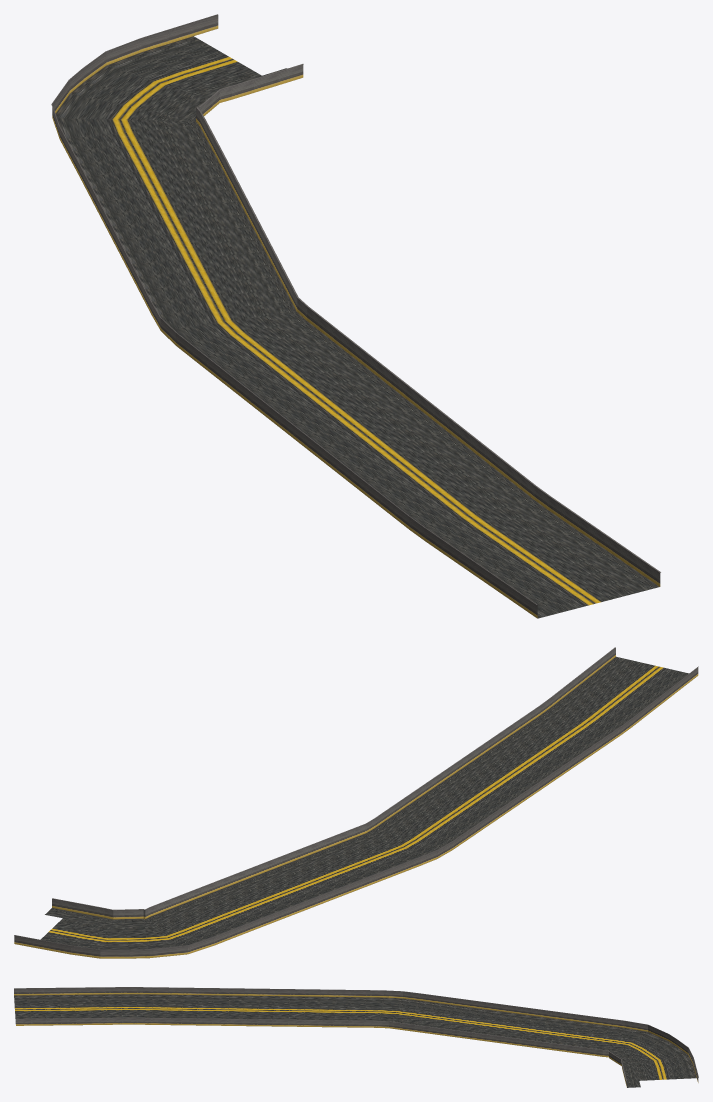
Rendered from road_block_05.obj.
The picture shows the model from 3 angles, top to bottom: view 1: azimuth 30°, elevation 25°; view 2: azimuth 150°, elevation 25°; view 3: azimuth 270°, elevation 25°; orthographic projection. The views are drawn at different scales.
Visible parts, largest first — view 1: Road_display.005_Cube.009; view 2: Road_display.005_Cube.009; view 3: Road_display.005_Cube.009.
Part boxes in pixels (box(x1,y1,x2,y2)): Road_display.005_Cube.009: box(51, 14, 660, 618); Road_display.005_Cube.009: box(14, 647, 698, 958); Road_display.005_Cube.009: box(14, 987, 698, 1087).
Bounding box in the file's own units: 45.11 × 1.57 × 139.
Materials: 1 (1 with a texture image).
